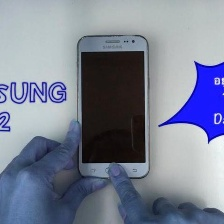phone: (72, 30, 154, 183)
